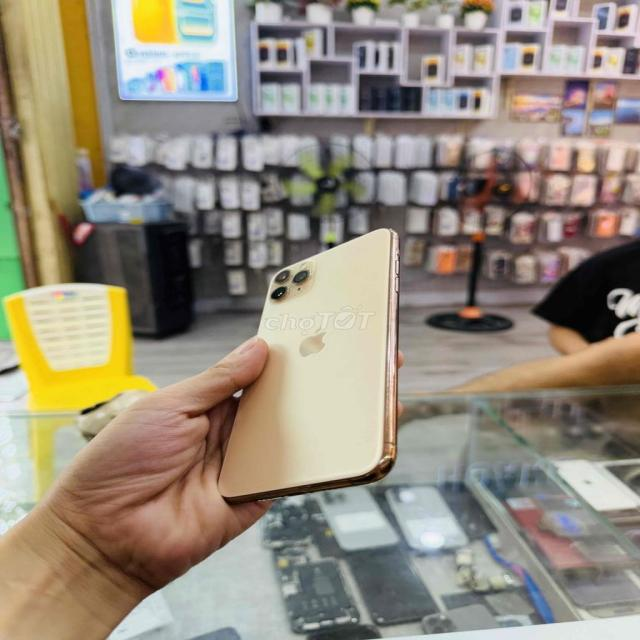gen_11: (218, 229, 398, 502)
